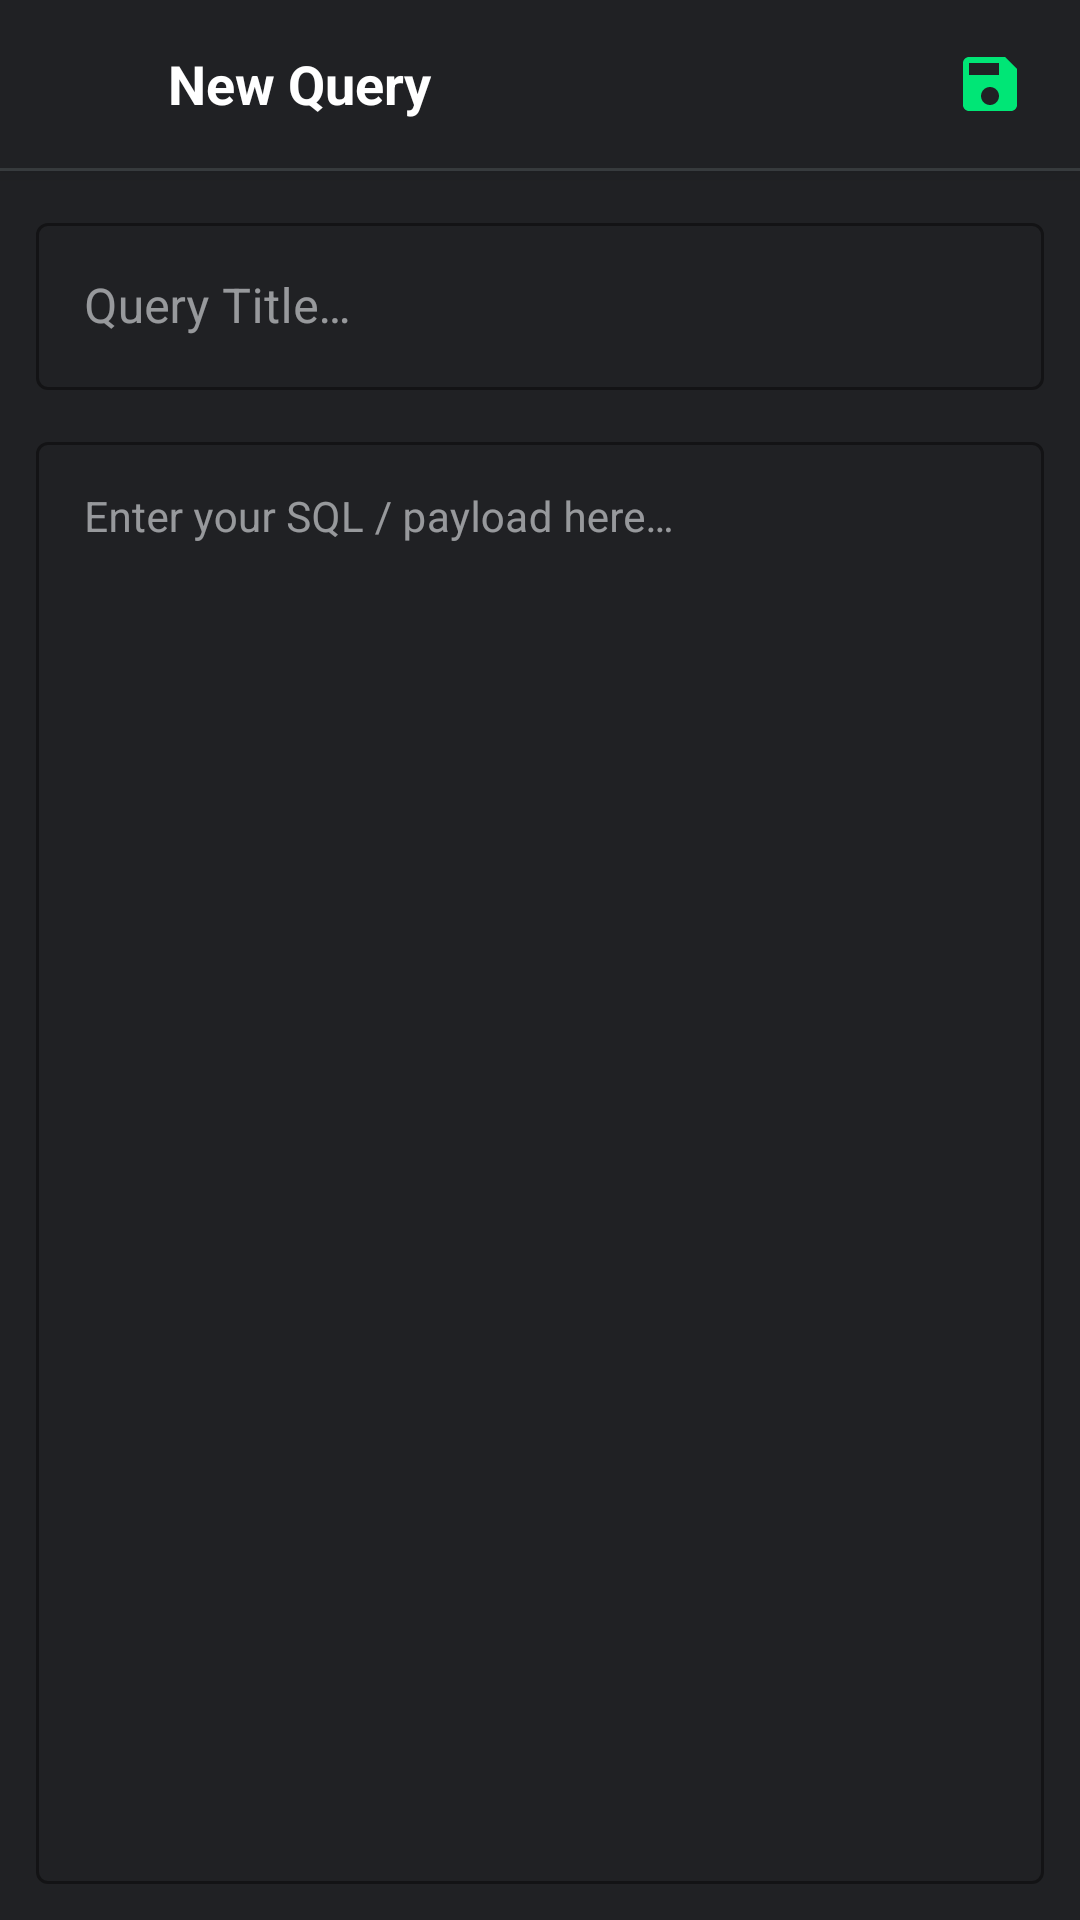

Locate icon controls on the screen. Image size 1080px×1920px, boxes as {"x1": x1, "y1": y1, "x2": x2, "y2": y2}.
Save: {"x1": 963, "y1": 57, "x2": 1017, "y2": 111}
